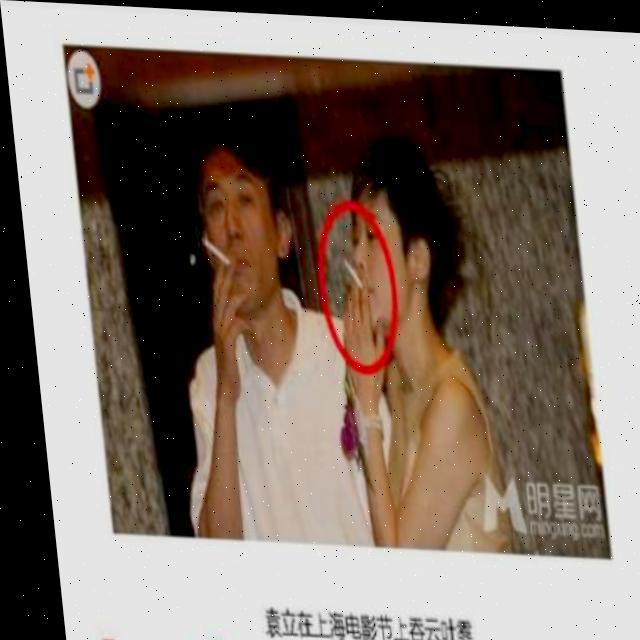cigarette: (197, 232, 227, 268), (338, 252, 360, 288)
